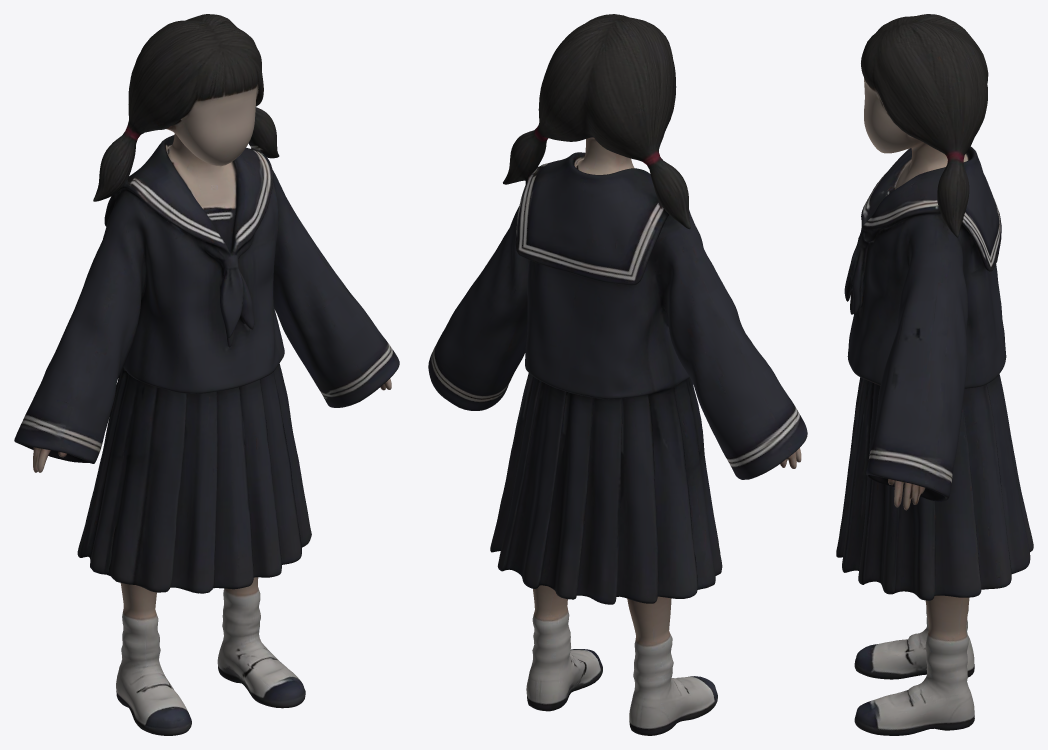
The model's file is yokai-yuri.glb.
3 renders of one model, left to right at view 1: azimuth 30°, elevation 25°; view 2: azimuth 150°, elevation 25°; view 3: azimuth 270°, elevation 25°, orthographic.
Visible parts, largest first — view 1: tripo_node_fc606d3d; view 2: tripo_node_fc606d3d; view 3: tripo_node_fc606d3d.
Part boxes in pixels (x1,y1,x2,y2): tripo_node_fc606d3d: (14,14,399,735); tripo_node_fc606d3d: (428,14,807,735); tripo_node_fc606d3d: (836,14,1033,735).
Size of the model in its own units: 0.5519 by 0.9785 by 0.2586.
Materials: 1 (1 with a texture image).
